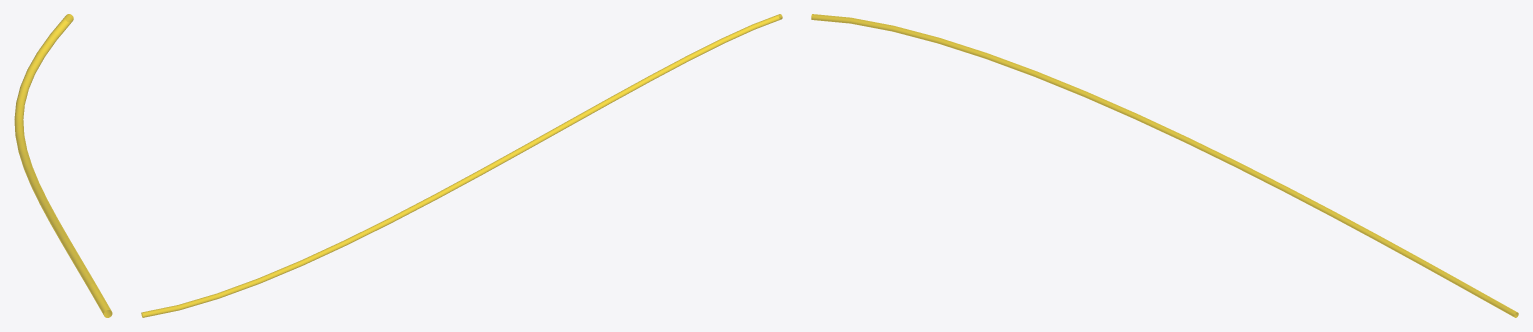
File: Event_31209032_track_28.fbx
The picture shows the model from 3 angles, left to right: view 1: azimuth 90°, elevation 25°; view 2: azimuth 210°, elevation 25°; view 3: azimuth 330°, elevation 25°; orthographic projection. The views are drawn at different scales.
Parts seen in each view (by area): view 1: Model; view 2: Model; view 3: Model.
Boxes of the visible parts, x1=… form: Model: x1=14, y1=14, x2=112, y2=317; Model: x1=141, y1=14, x2=782, y2=317; Model: x1=811, y1=14, x2=1518, y2=317.
Bounding box in the file's own units: 5.32 × 1.07 × 0.4373.
